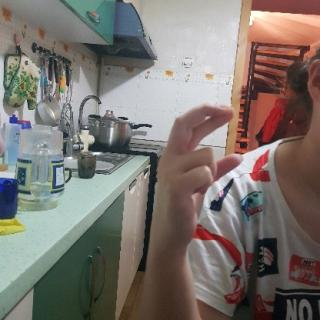DHELL: (148, 98, 249, 262)
